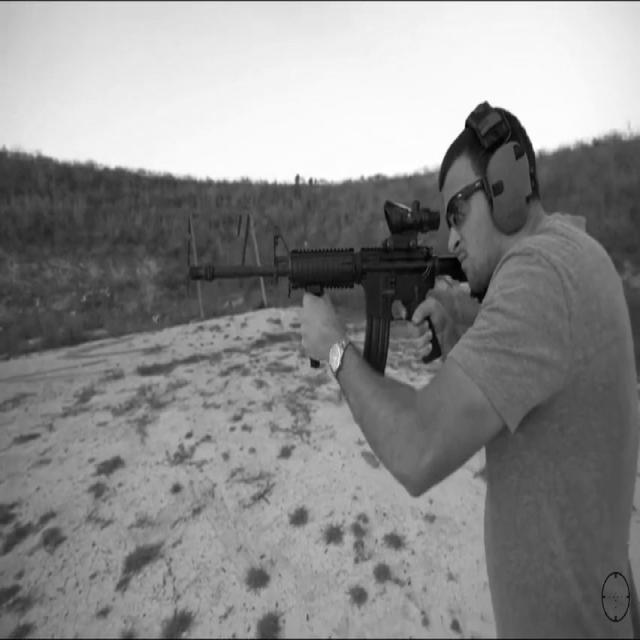Sniper: (130, 114, 574, 515)
